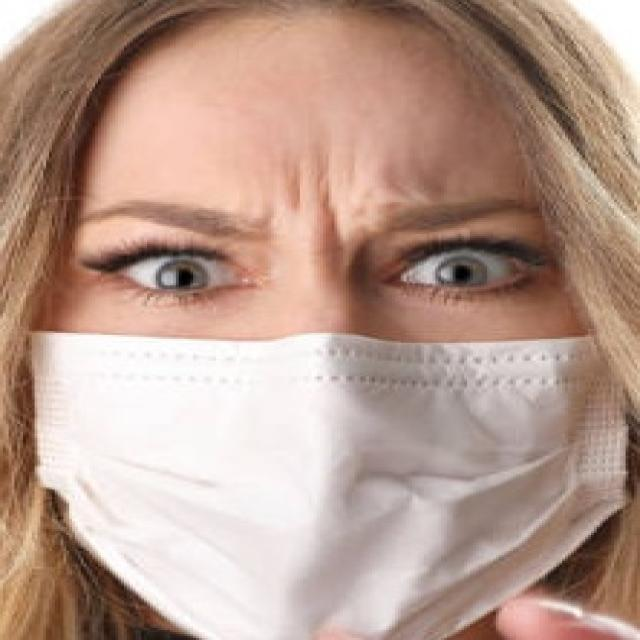Anxiety: (19, 13, 637, 638)
